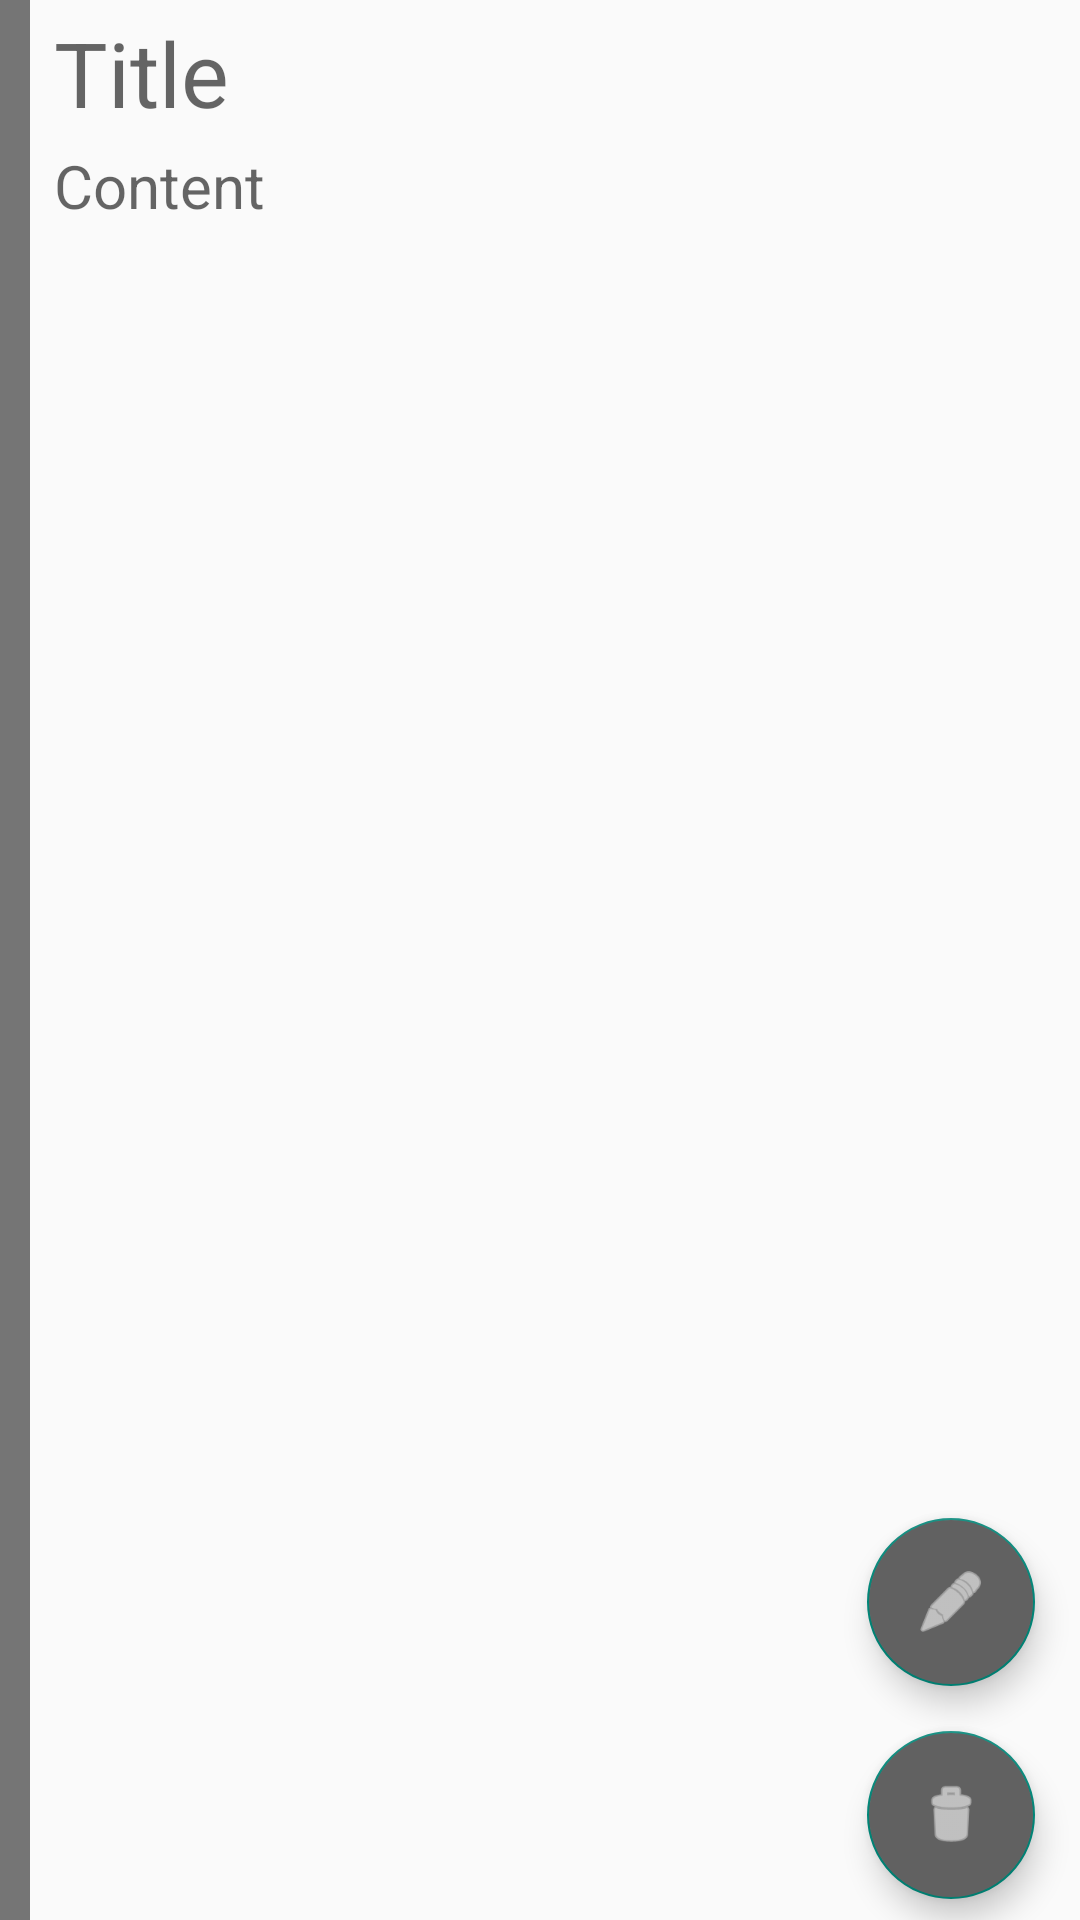

Where to tap for icons on this 1080 x 1920 app screen, as point (x, y):
delete: point (951, 1815)
edit: point (951, 1602)
